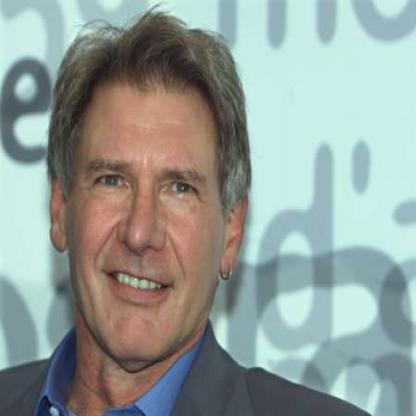face: (67, 36, 232, 368)
